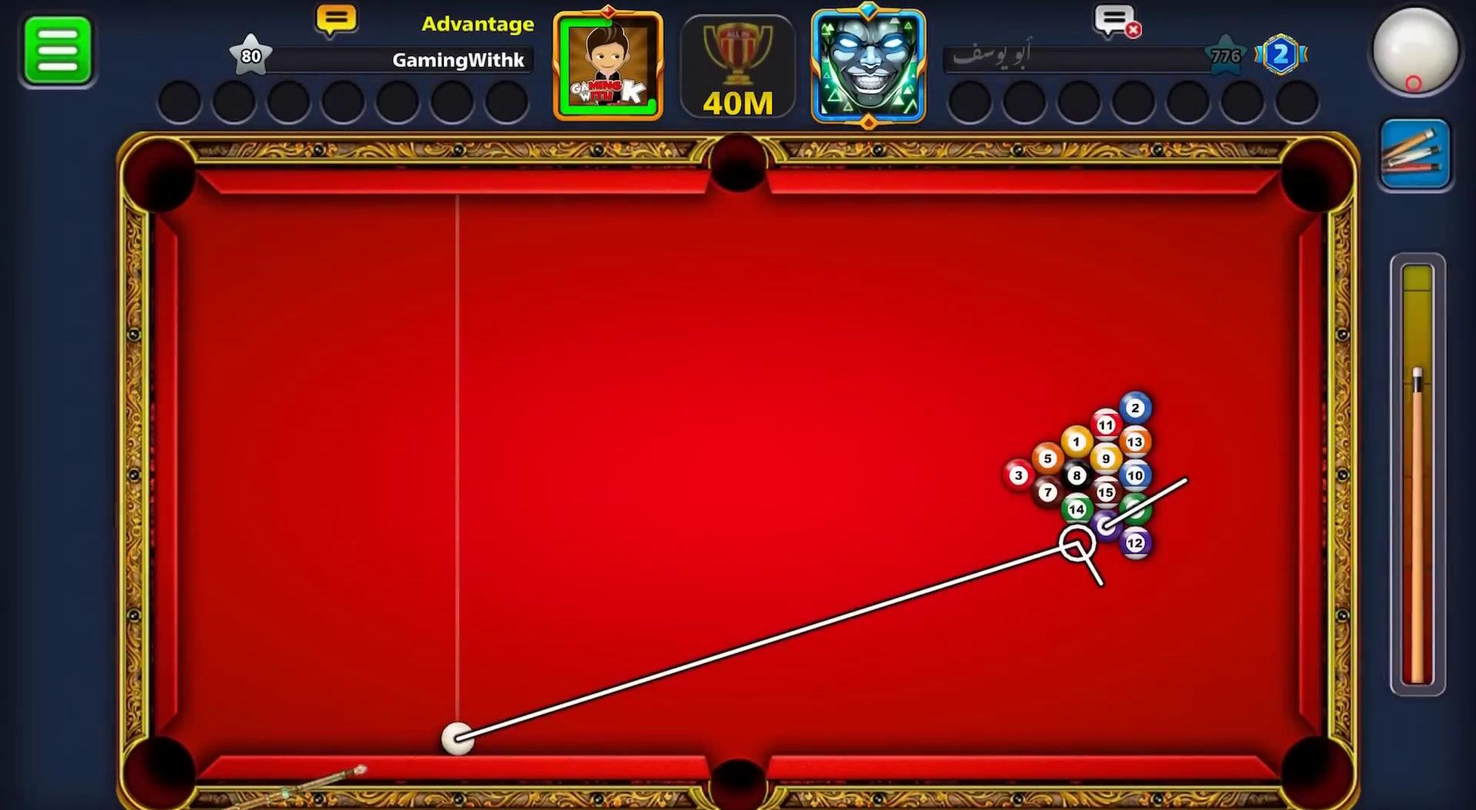Ball: (1118, 387, 1153, 425), (1118, 526, 1152, 562), (1090, 475, 1123, 511), (1032, 438, 1065, 474), (1118, 494, 1152, 528), (1119, 425, 1153, 459), (1002, 456, 1034, 492), (1119, 458, 1152, 492), (1031, 475, 1063, 510), (1061, 458, 1092, 492), (1061, 492, 1092, 525), (1091, 509, 1121, 543), (1091, 442, 1121, 475)
Force: (1390, 252, 1448, 699)
Guideline: (457, 470, 1197, 743)
Hole: (118, 124, 215, 230), (1271, 121, 1362, 228), (1264, 719, 1368, 809), (116, 718, 214, 809), (693, 728, 785, 809), (702, 122, 773, 211)
Play_Area: (177, 192, 1295, 752)
Spin: (1360, 0, 1475, 111)
White: (438, 722, 480, 756)
